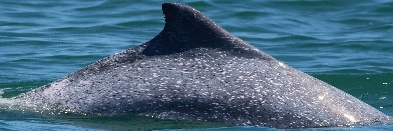fin: (12, 1, 390, 131)
